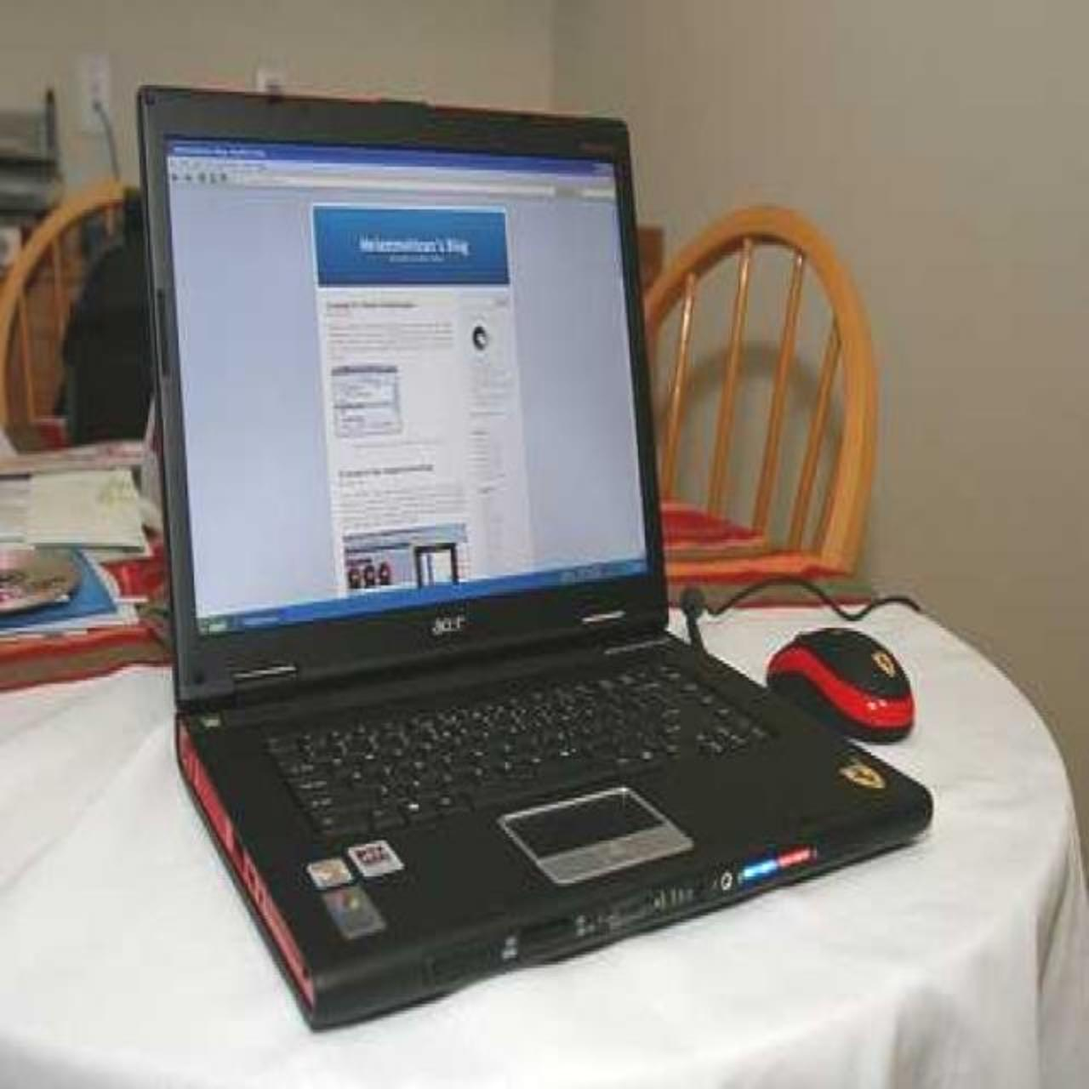laptop: (116, 79, 905, 996)
